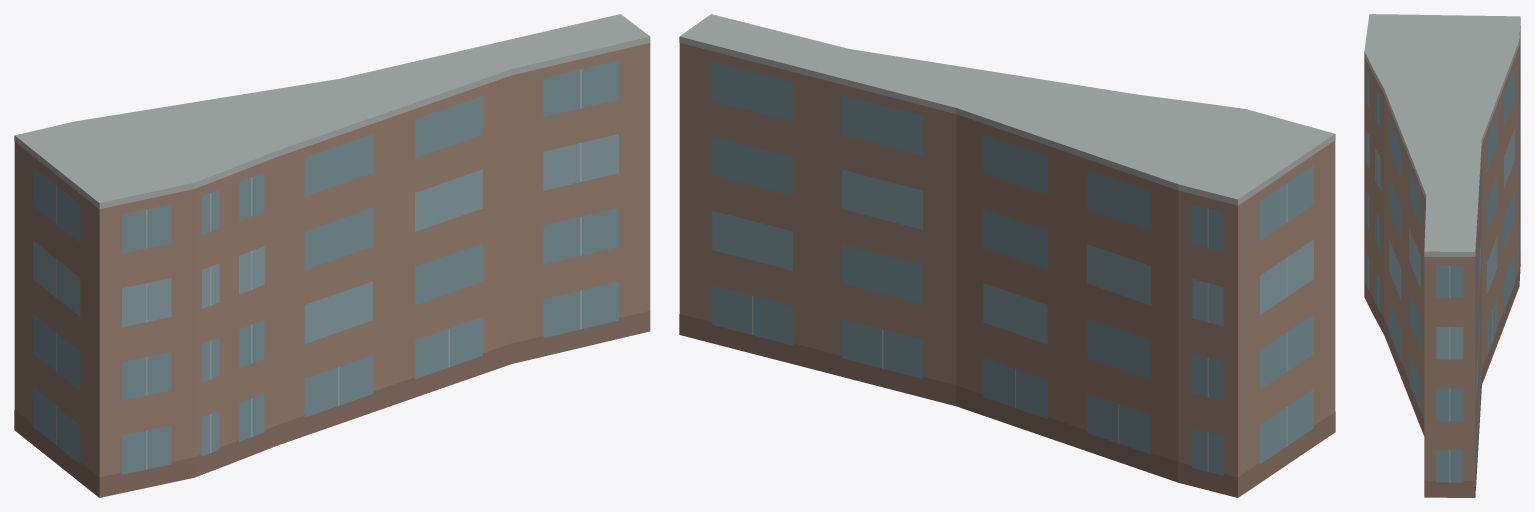
Rendered from survey-upis-32722345.glb.
3 renders of one model, left to right at view 1: azimuth 30°, elevation 25°; view 2: azimuth 150°, elevation 25°; view 3: azimuth 270°, elevation 25°, orthographic. The views are drawn at different scales.
Visible parts, largest first — view 1: survey-upis-32722345.tmp; view 2: survey-upis-32722345.tmp; view 3: survey-upis-32722345.tmp.
Part boxes in pixels (x1,y1,x2,y2): survey-upis-32722345.tmp: [14, 14, 650, 497]; survey-upis-32722345.tmp: [679, 14, 1335, 497]; survey-upis-32722345.tmp: [1364, 14, 1520, 497].
Bounding box in the file's own units: 24.3 × 11.7 × 6.75.
